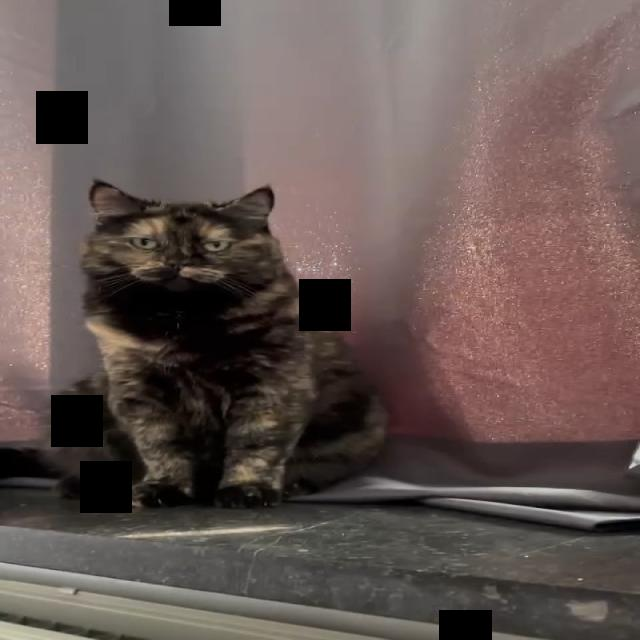authorized: (34, 178, 390, 510)
